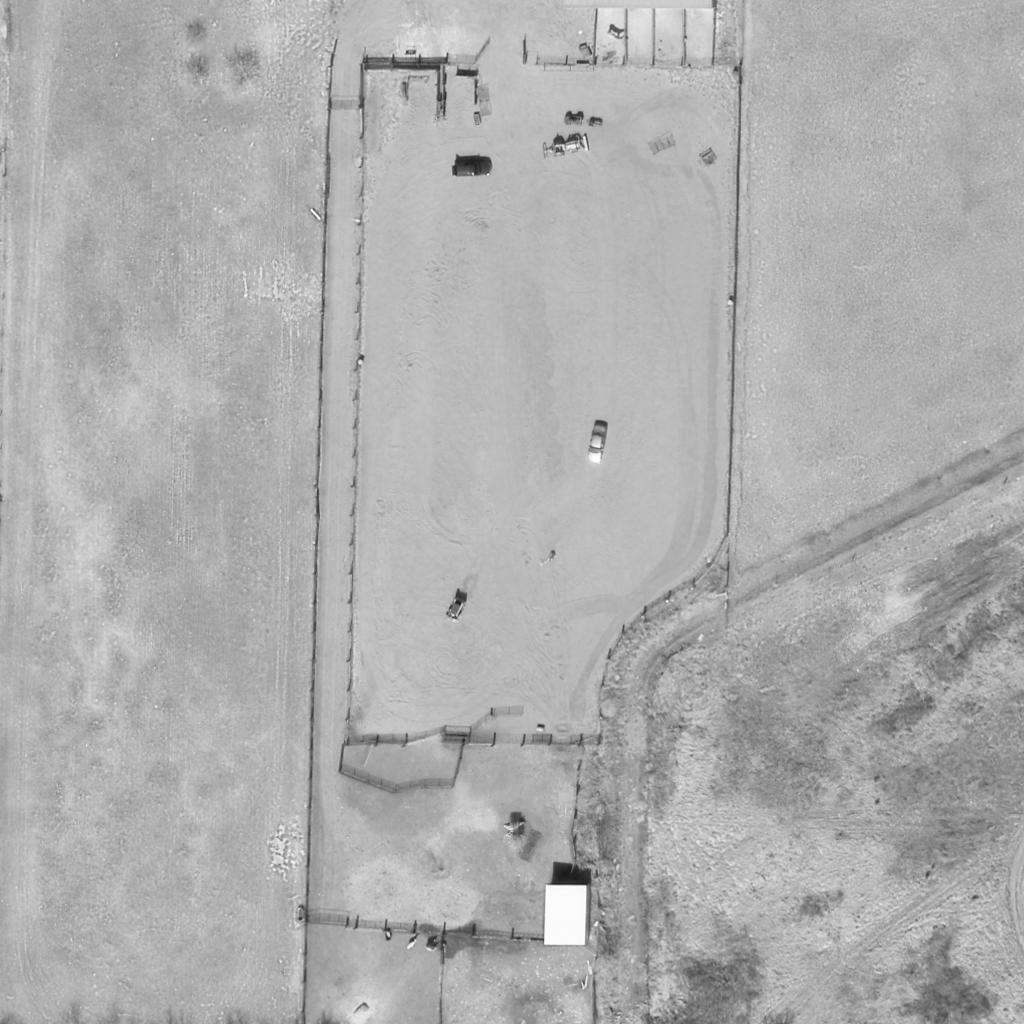vehicle: (548, 132, 596, 160), (587, 423, 607, 467), (455, 165, 493, 175)
